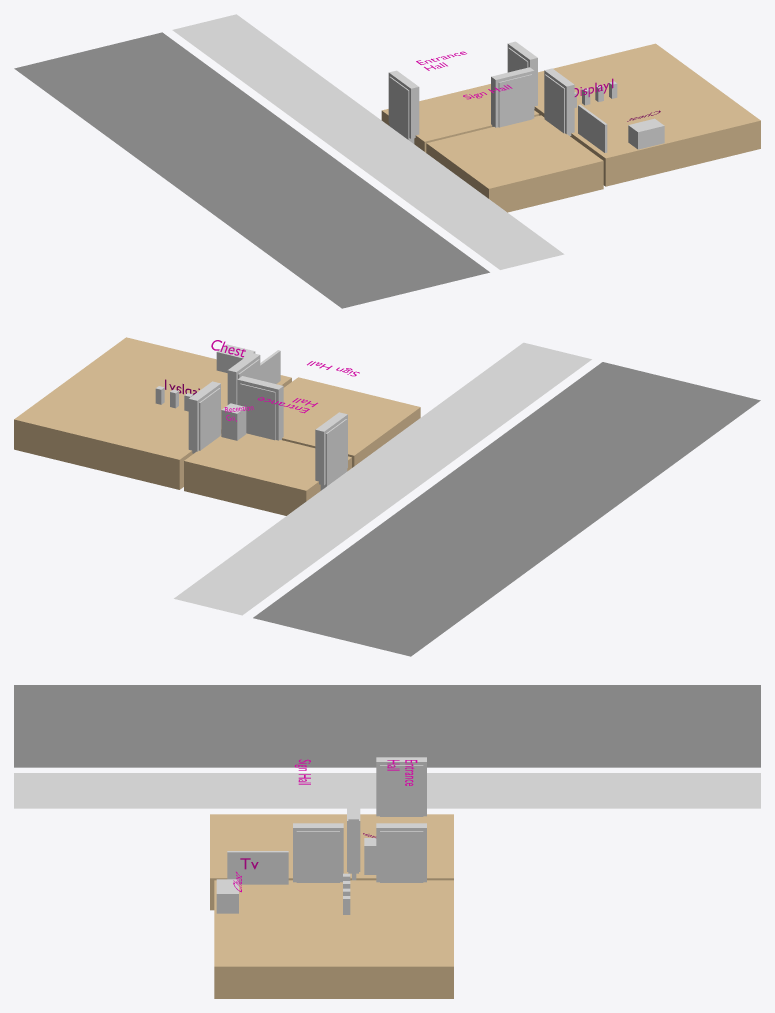
The model's file is museu fundation8.fbx.
The picture shows the model from 3 angles, top to bottom: view 1: azimuth 30°, elevation 25°; view 2: azimuth 150°, elevation 25°; view 3: azimuth 270°, elevation 25°; orthographic projection. The views are drawn at different scales.
Parts seen in each view (by area): view 1: road, sidewalk, chesthall, signhall, entrancehall, Cube.001, Cube.004, Cube.002, TV, chest, doorframe.003, doorframe (+2 smaller); view 2: road, sidewalk, chesthall, entrancehall, signhall, Cube.001, Cube.004, Cube.003, doorframe.003, doorframe.002, doorframe, ReceptionGuy (+3 smaller); view 3: road, chesthall, sidewalk, signhall, entrancehall, Cube.002, Cube.003, Cube.004, TV, doorframe.002, doorframe, doorframe.001 (+2 smaller).
Part boxes in pixels (box(x1,y1,x2,y2)): road: box(14, 32, 489, 308); sidewalk: box(172, 14, 564, 269); chesthall: box(534, 43, 760, 186); signhall: box(426, 115, 603, 212); entrancehall: box(381, 84, 539, 152); Cube.001: box(498, 74, 532, 127); Cube.004: box(389, 76, 414, 143); Cube.002: box(544, 74, 564, 133); TV: box(578, 104, 607, 152); chest: box(628, 118, 664, 149); doorframe.003: box(388, 70, 419, 138); doorframe: box(491, 67, 534, 127); road: box(253, 362, 760, 656); sidewalk: box(174, 342, 591, 615); chesthall: box(14, 337, 291, 489); entrancehall: box(184, 433, 351, 515); signhall: box(282, 377, 420, 467); Cube.001: box(239, 383, 275, 440); Cube.004: box(320, 419, 347, 490); Cube.003: box(199, 388, 220, 450); doorframe.003: box(315, 412, 347, 485); doorframe.002: box(188, 381, 220, 453); doorframe: box(237, 376, 283, 440); ReceptionGuy: box(221, 403, 246, 440); road: box(14, 685, 760, 767); chesthall: box(214, 880, 453, 998); sidewalk: box(14, 773, 760, 808); signhall: box(210, 814, 351, 910); entrancehall: box(356, 814, 453, 880); Cube.002: box(296, 831, 339, 882); Cube.003: box(380, 831, 423, 882); Cube.004: box(380, 765, 423, 816); TV: box(227, 851, 288, 884); doorframe.002: box(376, 823, 426, 882); doorframe: box(348, 797, 358, 876); doorframe.001: box(293, 823, 343, 882).
Bounding box in the file's own units: 3755 × 600 × 4209.
